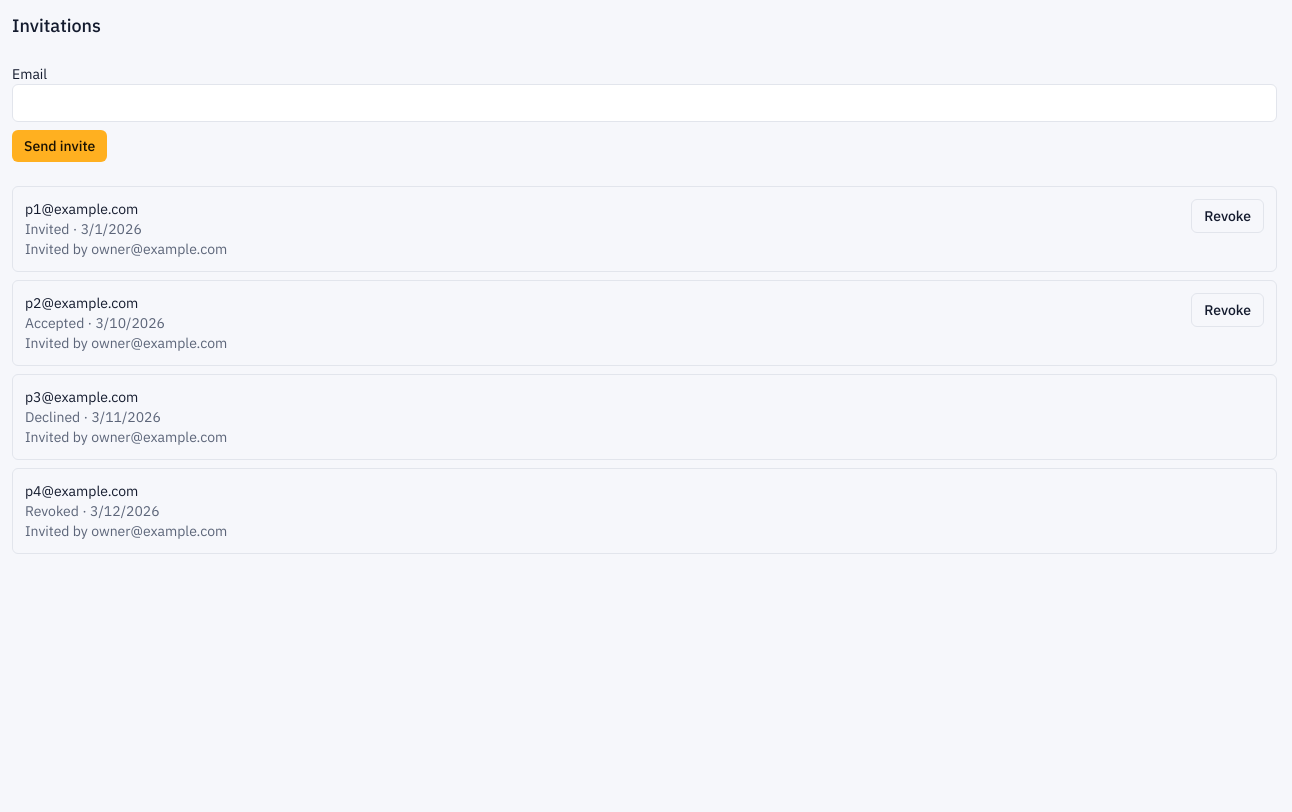
Test: SharingTab › sends an invite, clears the field and refetches the list
Step 1. Type "new@example.com" into the field labelled "Email" → [644, 103], box [12,84,1277,122]
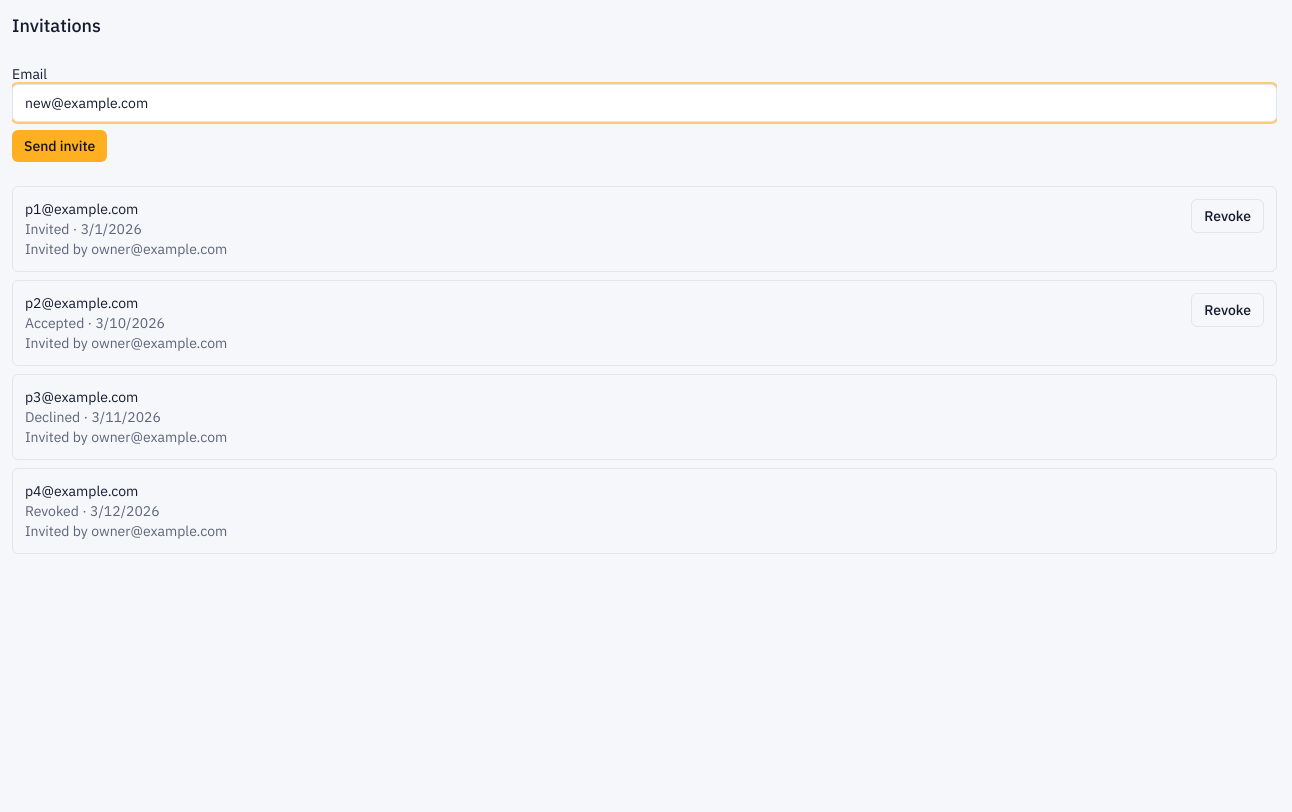
Step 2. Click the button "Send invite" → [60, 146], box [12,130,107,162]
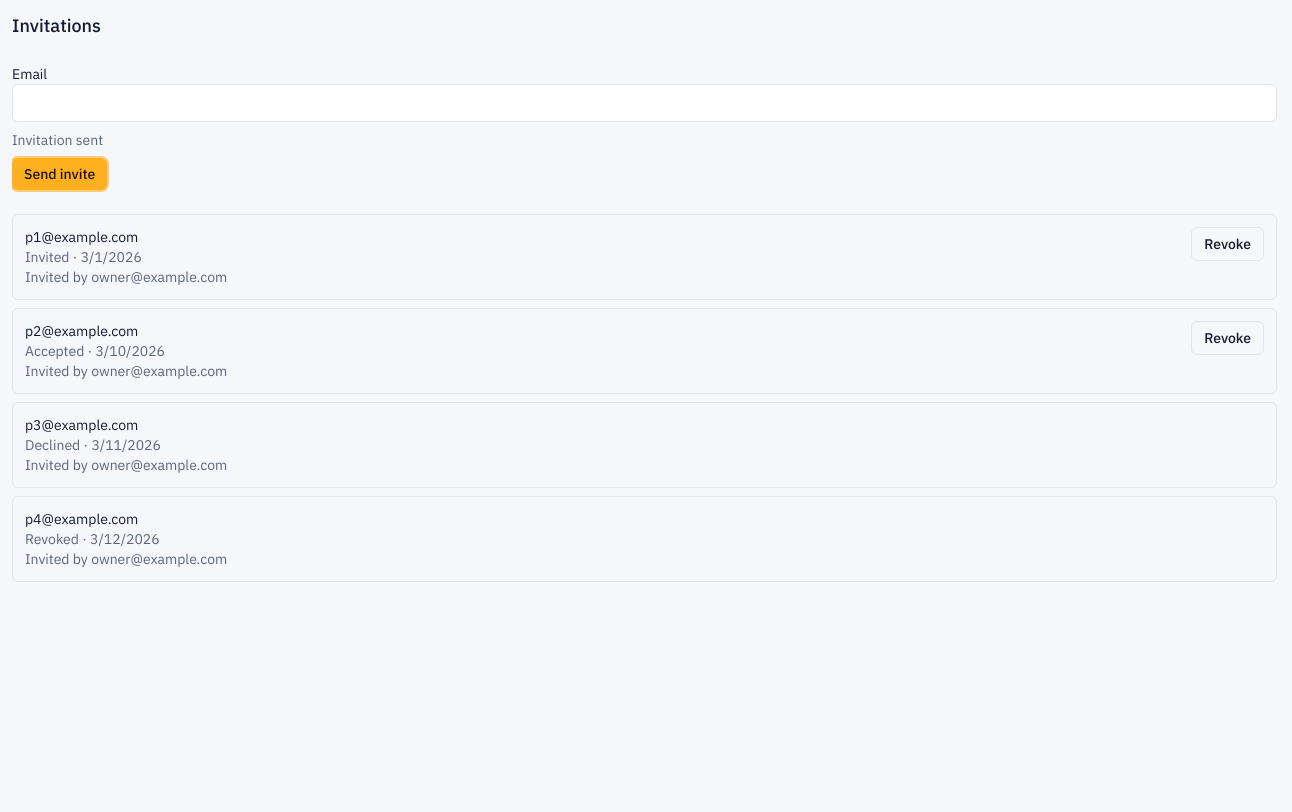
Check: the text "Invitation sent" is shown, box [12,131,103,149]
Check: the field labelled "Email" is empty, box [12,84,1277,122]
